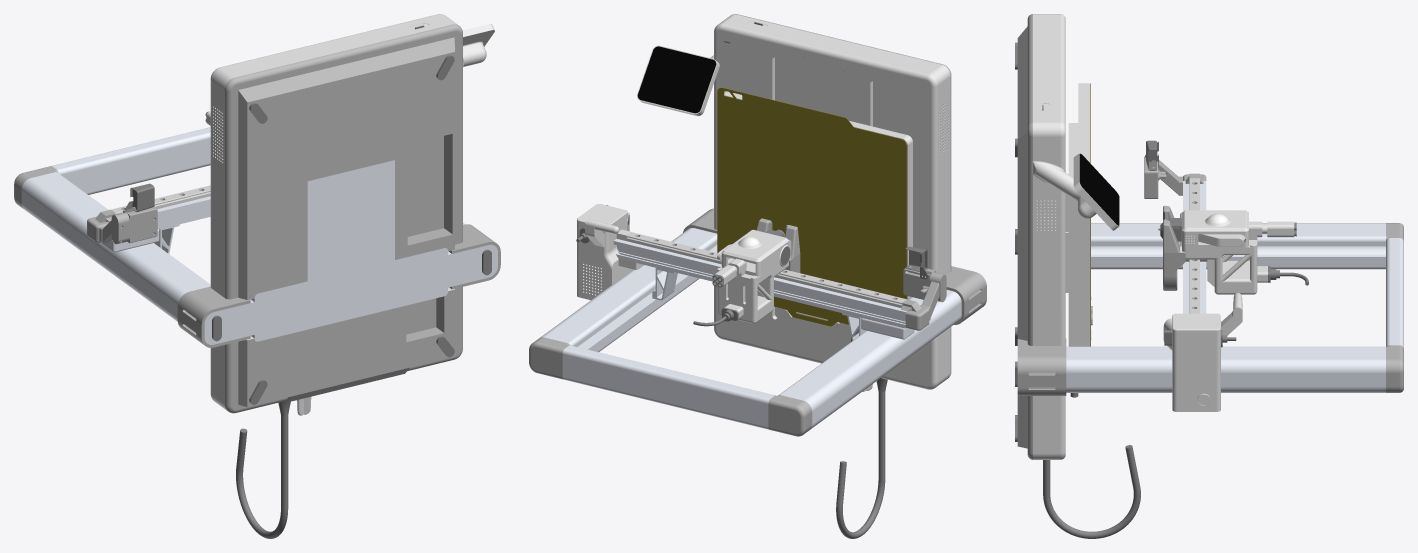
The model's file is bambu-a1.glb.
The picture shows the model from 3 angles, left to right: view 1: azimuth 30°, elevation 25°; view 2: azimuth 150°, elevation 25°; view 3: azimuth 270°, elevation 25°; orthographic projection. The views are drawn at different scales.
Parts seen in each view (by area): view 1: Node2, Node5, Node8, Node1, Node4, Node3, Node6, Node7; view 2: Node9, Node5, Node6, Node1, Node3, Node2, Node12, Node4, Node7, Node8; view 3: Node5, Node1, Node3, Node2, Node6, Node4, Node8, Node12, Node7.
Part boxes in pixels (x1,y1,x2,y2): Node2: [14, 24, 500, 413]; Node5: [21, 127, 497, 344]; Node8: [14, 31, 462, 349]; Node1: [206, 14, 486, 414]; Node4: [124, 25, 491, 538]; Node3: [209, 14, 494, 415]; Node6: [210, 14, 494, 414]; Node7: [111, 185, 210, 214]; Node9: [717, 87, 906, 326]; Node5: [540, 228, 978, 429]; Node6: [586, 24, 948, 390]; Node1: [577, 21, 950, 391]; Node3: [577, 14, 950, 385]; Node2: [529, 14, 986, 436]; Node12: [637, 46, 716, 113]; Node4: [576, 22, 931, 538]; Node7: [627, 232, 906, 307]; Node8: [529, 76, 986, 428]; Node5: [1029, 181, 1403, 392]; Node1: [1032, 14, 1294, 453]; Node3: [1032, 14, 1294, 459]; Node2: [1017, 14, 1403, 459]; Node6: [1032, 15, 1294, 459]; Node4: [1015, 42, 1308, 538]; Node8: [1017, 135, 1403, 453]; Node12: [1079, 153, 1119, 225]; Node7: [1189, 178, 1199, 313].
Bounding box in the file's own units: 462 × 605 × 429.
